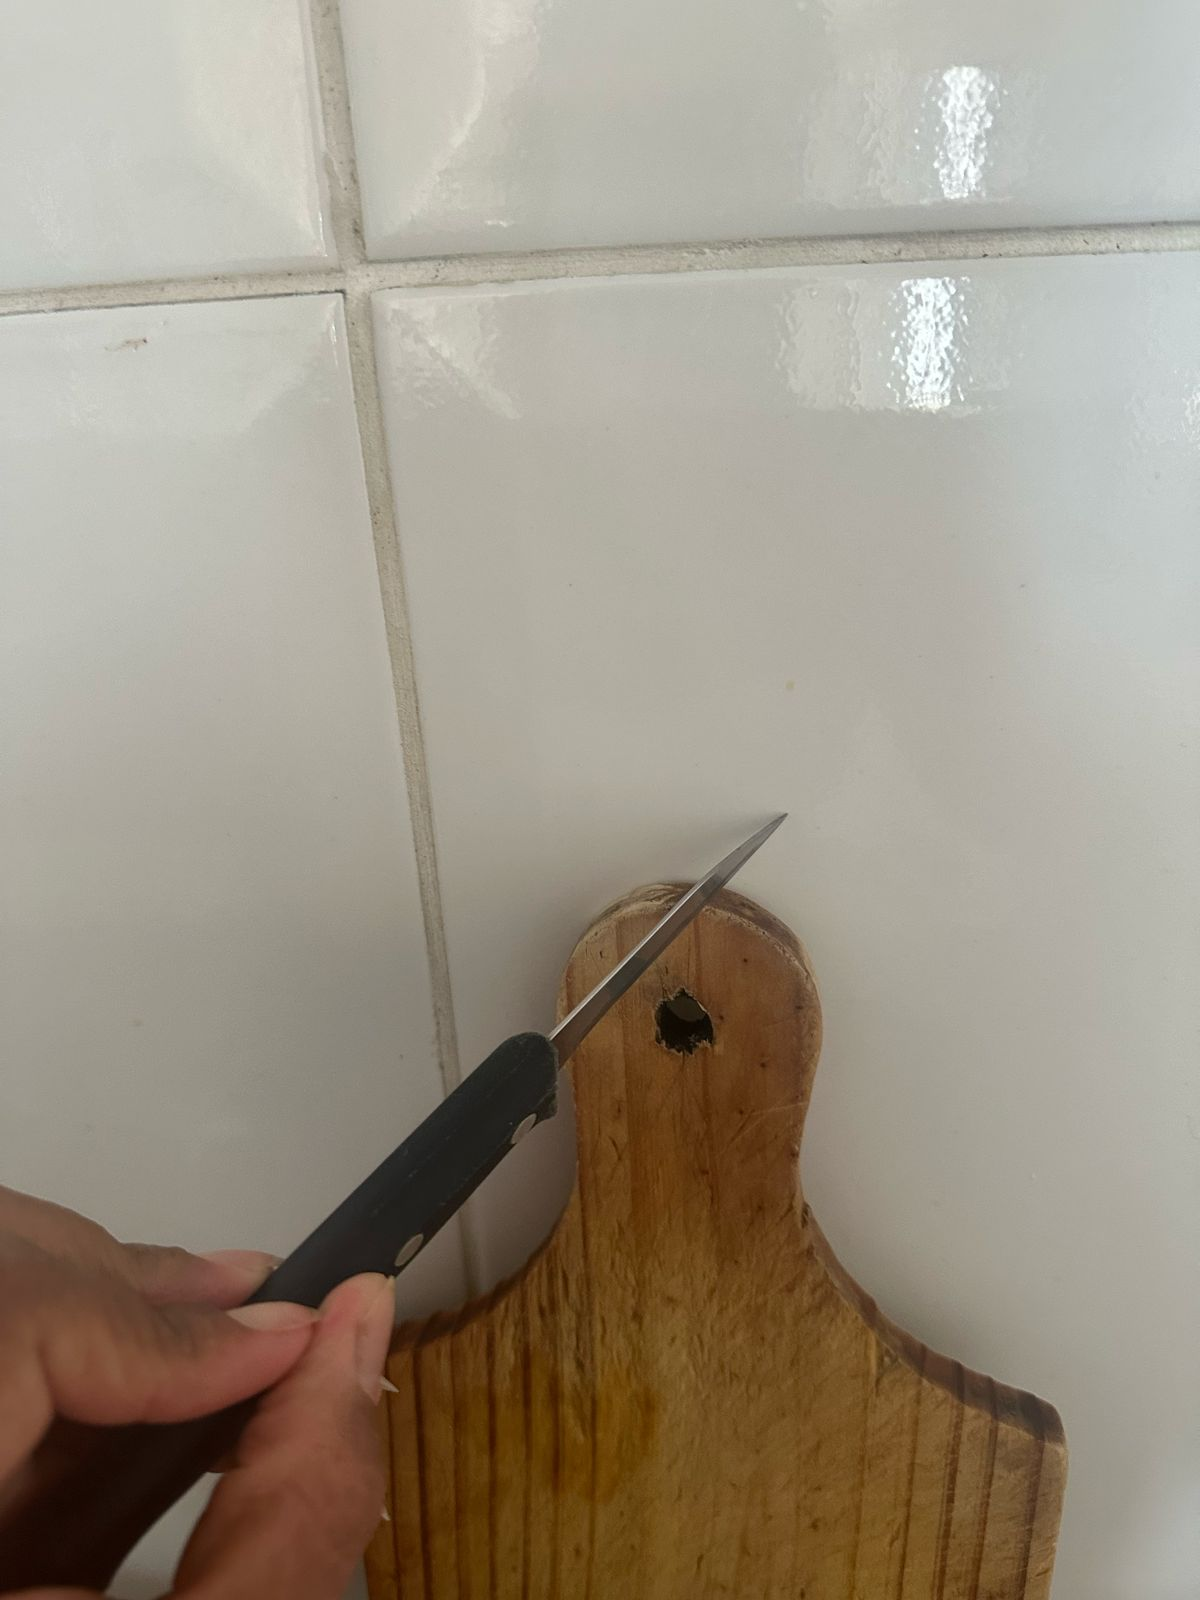faca: (299, 811, 792, 1267)
